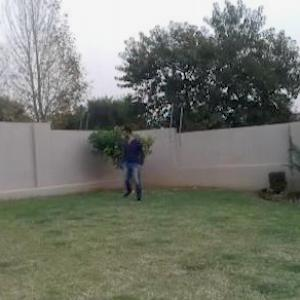follow: (121, 123, 146, 204)
